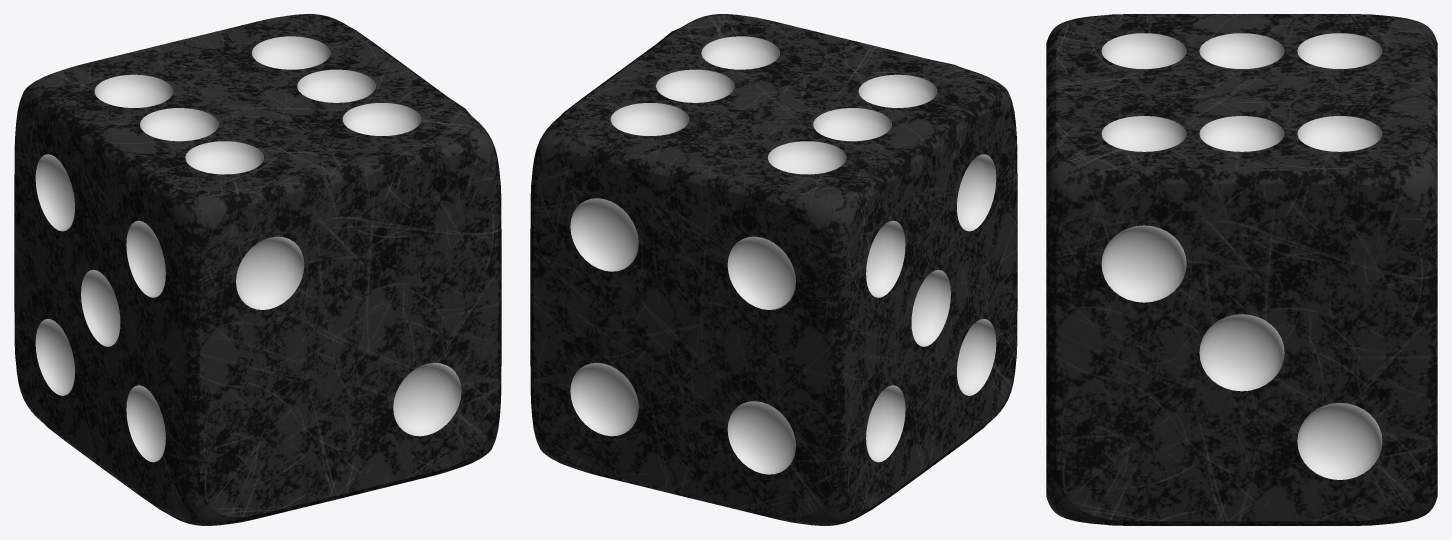
The picture shows the model from 3 angles, left to right: view 1: azimuth 30°, elevation 25°; view 2: azimuth 150°, elevation 25°; view 3: azimuth 270°, elevation 25°; orthographic projection. The views are drawn at different scales.
Visible parts, largest first — view 1: g Dice, g Holes; view 2: g Dice, g Holes; view 3: g Dice, g Holes.
Boxes of the visible parts, box(x1,y1,x2,y2) form: g Dice: box(14, 14, 501, 525); g Holes: box(35, 36, 461, 462); g Dice: box(530, 14, 1017, 525); g Holes: box(570, 36, 996, 474); g Dice: box(1046, 14, 1437, 525); g Holes: box(1101, 33, 1382, 479).
Bounding box in the file's own units: 299 × 299 × 299.
